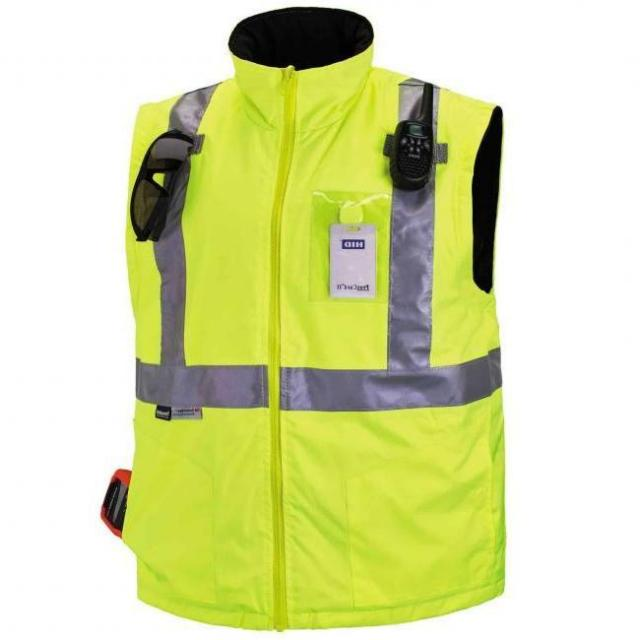Reflective-Jacket: (86, 16, 544, 640)
